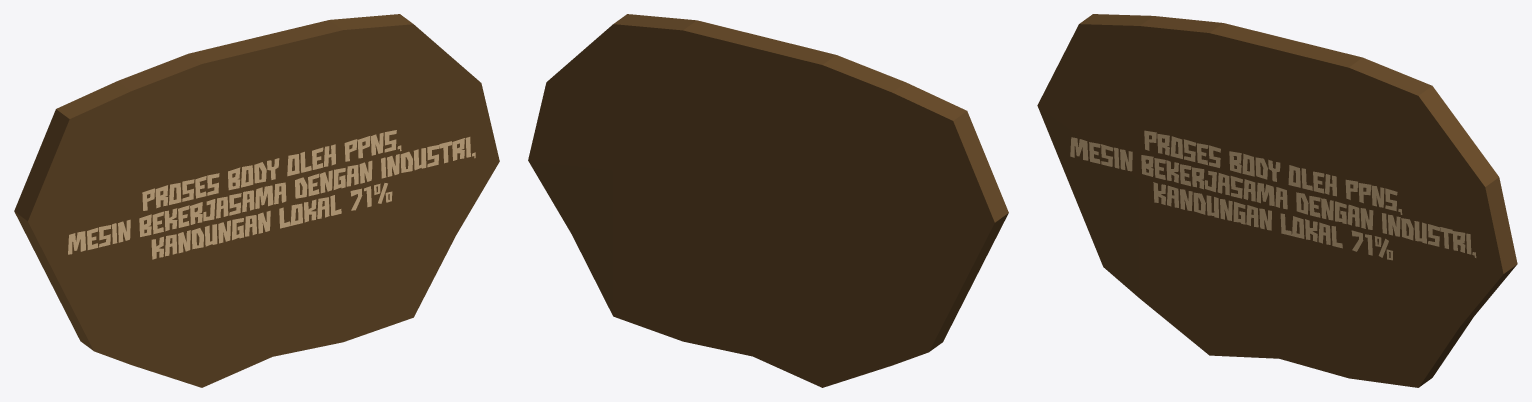
File: ui_4_PerahuSekoci.fbx
3 renders of one model, left to right at view 1: azimuth 30°, elevation 25°; view 2: azimuth 150°, elevation 25°; view 3: azimuth 330°, elevation 25°, orthographic.
Parts seen in each view (by area): view 1: Cube.003, Text.002; view 2: Cube.003; view 3: Cube.003, Text.002.
Boxes of the visible parts, x1,y1,x2,y2 form: Cube.003: (14, 14, 499, 387); Text.002: (68, 130, 475, 259); Cube.003: (528, 14, 1008, 387); Cube.003: (1037, 14, 1517, 387); Text.002: (1070, 130, 1476, 260).
Size of the model in its own units: 256 by 168 by 16.5.
